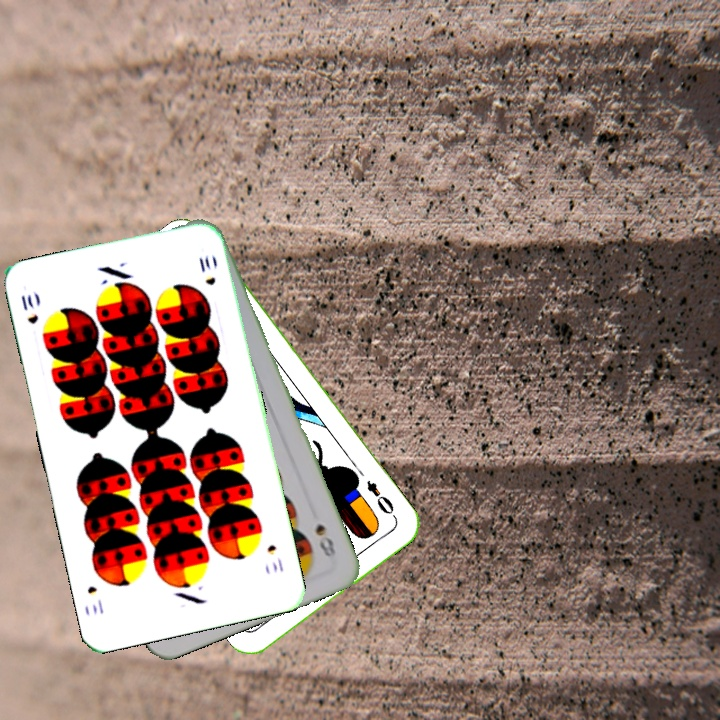EO: (362, 475, 399, 521)
S10: (17, 290, 41, 327), (263, 540, 286, 575)
S8: (311, 520, 339, 561)
